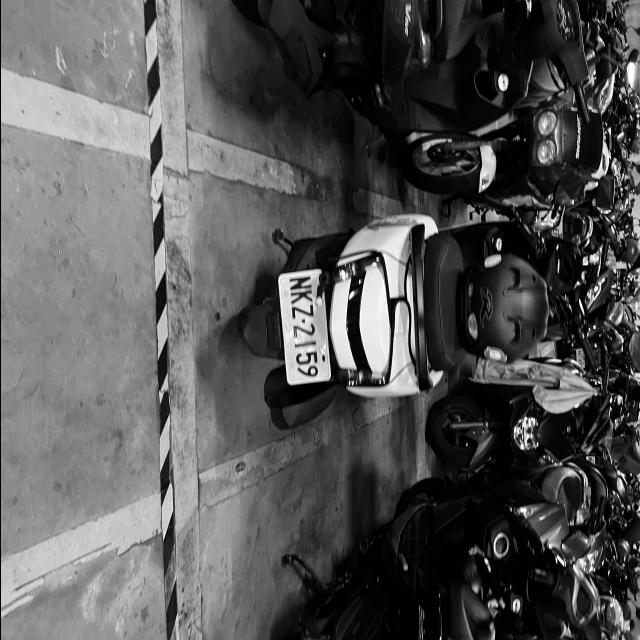-: (300, 318, 306, 324)
1: (294, 340, 316, 350)
2: (292, 324, 314, 339)
5: (294, 352, 316, 364)
9: (296, 364, 318, 378)
K: (291, 290, 311, 304)
N: (290, 276, 312, 292)
Z: (292, 304, 314, 320)
plate: (285, 270, 323, 384)
